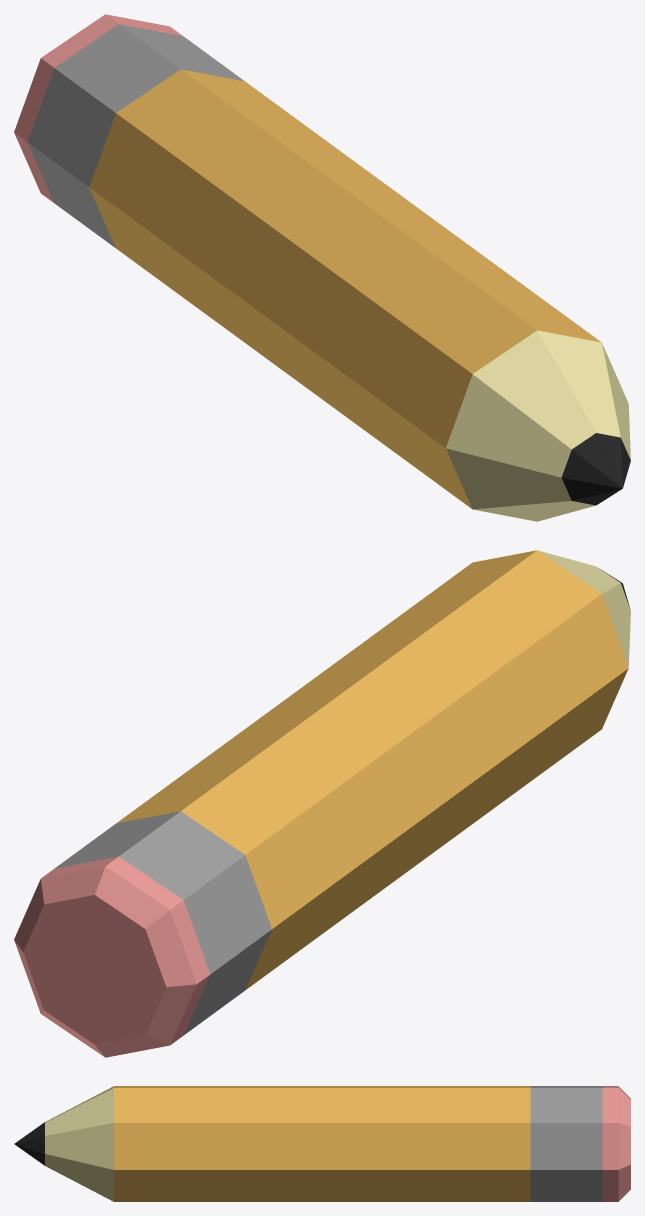
The model's file is Projectile_Pencil.fbx.
3 renders of one model, top to bottom at view 1: azimuth 30°, elevation 25°; view 2: azimuth 150°, elevation 25°; view 3: azimuth 270°, elevation 25°, orthographic. The views are drawn at different scales.
Parts seen in each view (by area): view 1: Pencil; view 2: Pencil; view 3: Pencil.
Part boxes in pixels (bbox=[...]): Pencil: bbox=[14, 14, 630, 521]; Pencil: bbox=[14, 550, 630, 1057]; Pencil: bbox=[14, 1086, 630, 1201].
Size of the model in its own units: 0.1 by 0.1 by 0.5.
